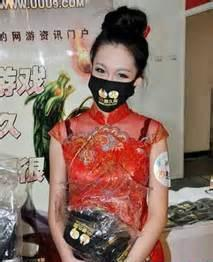OK: (90, 64, 136, 110)
